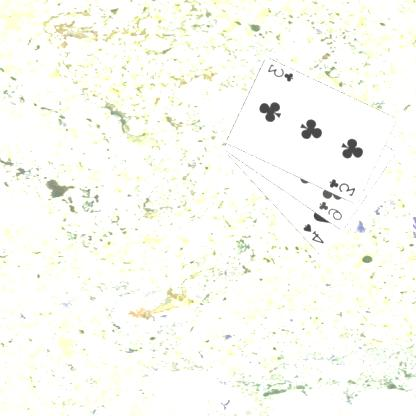3C: (266, 61, 298, 83), (328, 176, 359, 198)
4S: (302, 221, 327, 245)
9C: (318, 198, 345, 222)
